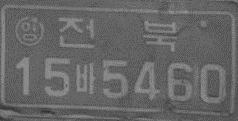0: (198, 62, 226, 105)
1: (11, 55, 37, 96)
4: (133, 60, 159, 100)
5: (101, 59, 129, 99), (43, 56, 70, 97)
6: (166, 61, 192, 102)
바: (75, 62, 96, 95)
영: (14, 15, 43, 47)
전북_D: (56, 16, 178, 52)
